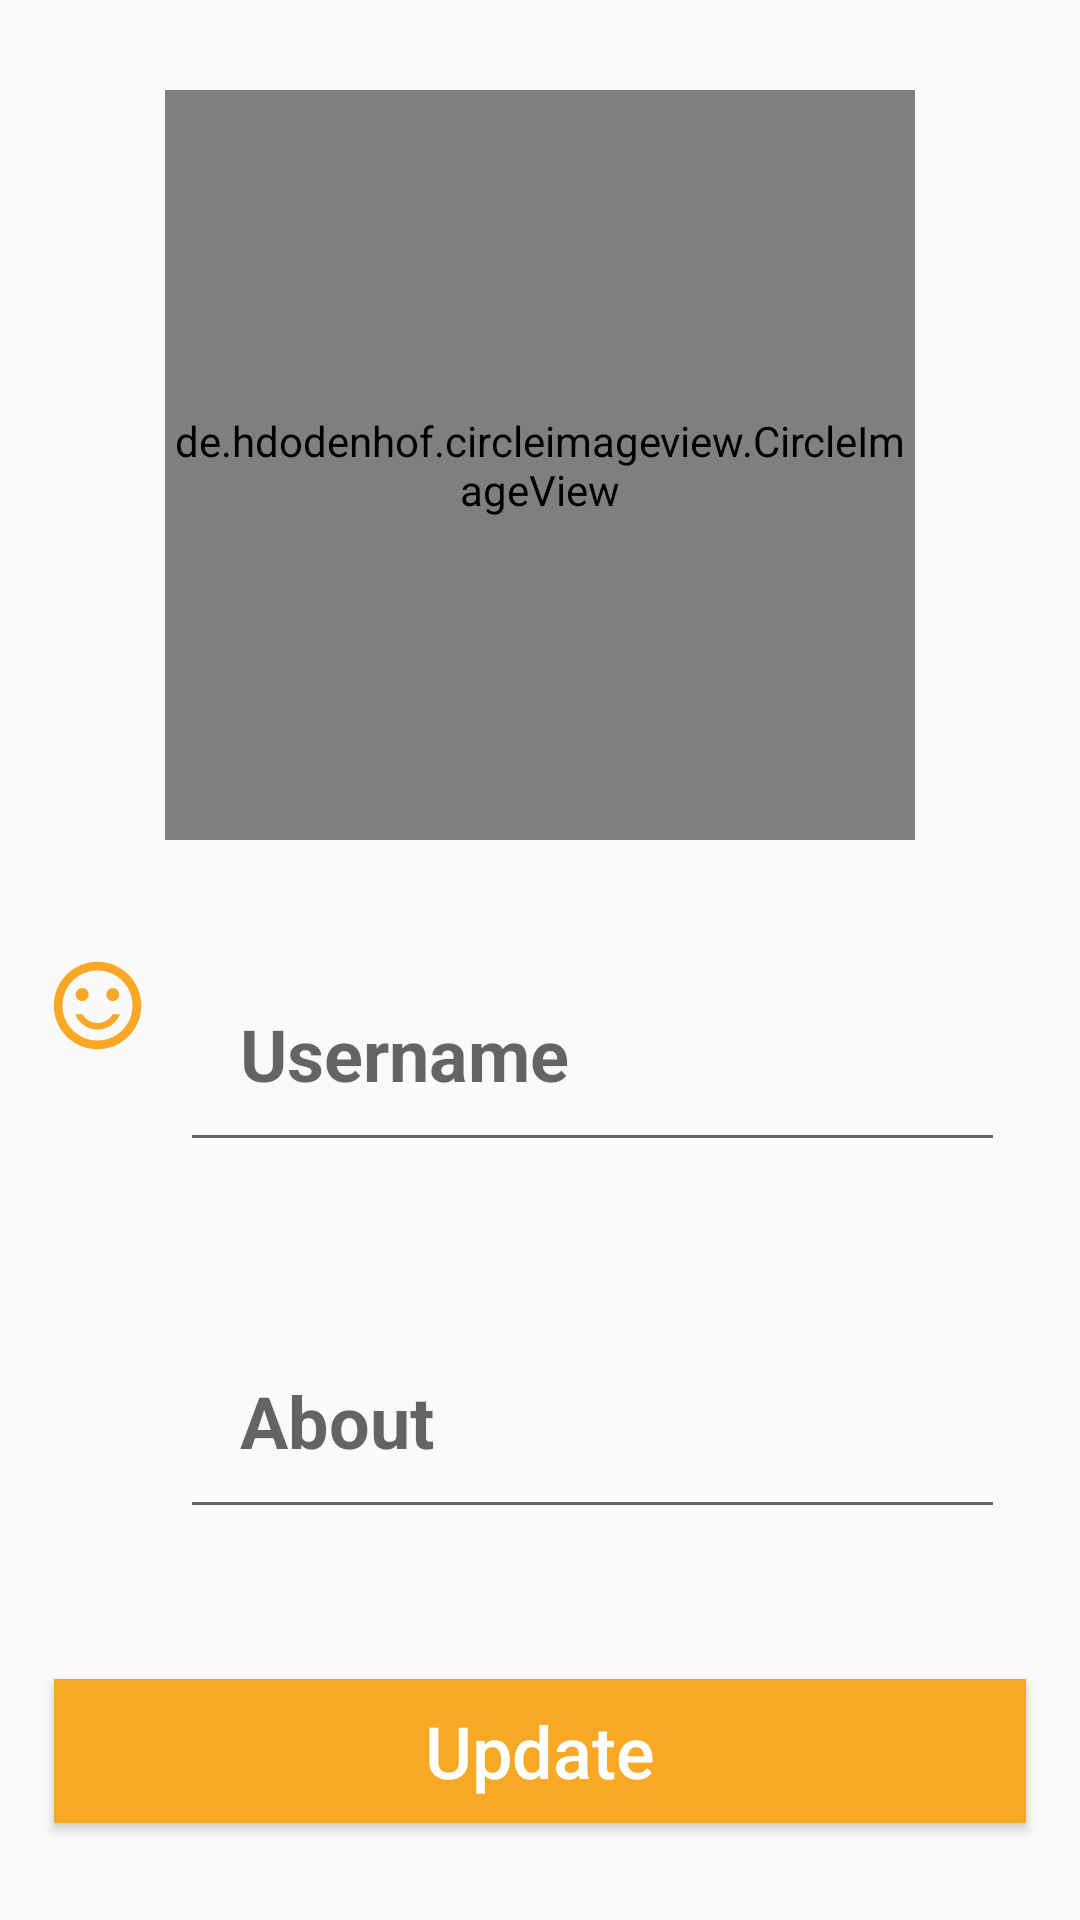

Icon click points for this 1080px×1920px phone screenshot, format point (x, y):
sentiment satisfied: point (97, 1005)
